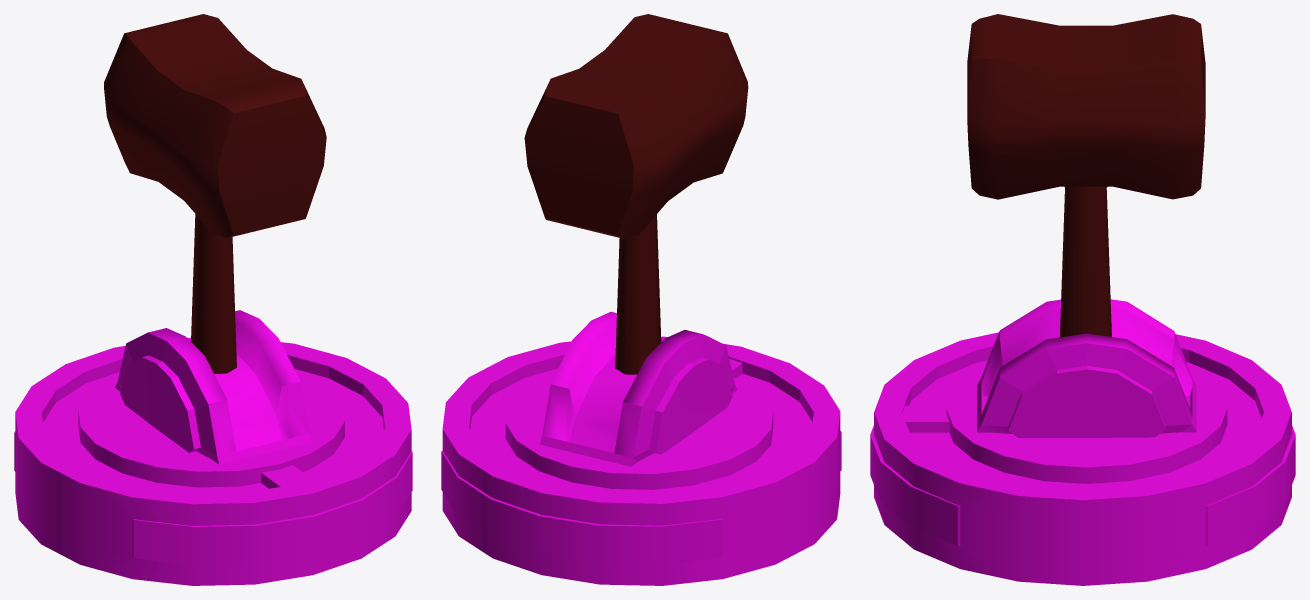
The model's file is roomba_hammer2spp.fbx.
The picture shows the model from 3 angles, left to right: view 1: azimuth 30°, elevation 25°; view 2: azimuth 150°, elevation 25°; view 3: azimuth 270°, elevation 25°; orthographic projection. The views are drawn at different scales.
Parts seen in each view (by area): view 1: polySurface10, polySurface9, polySurface13, polySurface12, polySurface8, polySurface11; view 2: polySurface10, polySurface9, polySurface13, polySurface12, polySurface8; view 3: polySurface10, polySurface9, polySurface13, polySurface12, polySurface8, polySurface11.
Part boxes in pixels (left/top/right/bottom): polySurface10: left=14, top=337, right=412, bottom=585; polySurface9: left=104, top=14, right=326, bottom=237; polySurface13: left=115, top=310, right=311, bottom=464; polySurface12: left=78, top=372, right=344, bottom=487; polySurface8: left=191, top=214, right=236, bottom=373; polySurface11: left=261, top=465, right=312, bottom=488; polySurface10: left=441, top=336, right=841, bottom=585; polySurface9: left=524, top=14, right=748, bottom=238; polySurface13: left=540, top=311, right=736, bottom=466; polySurface12: left=505, top=373, right=773, bottom=489; polySurface8: left=615, top=214, right=661, bottom=374; polySurface10: left=870, top=332, right=1295, bottom=585; polySurface9: left=967, top=14, right=1205, bottom=199; polySurface13: left=977, top=299, right=1196, bottom=437; polySurface12: left=946, top=368, right=1227, bottom=483; polySurface8: left=1060, top=186, right=1111, bottom=337; polySurface11: left=902, top=405, right=949, bottom=432.
Bounding box in the file's own units: 6.67 × 8.16 × 6.8.
